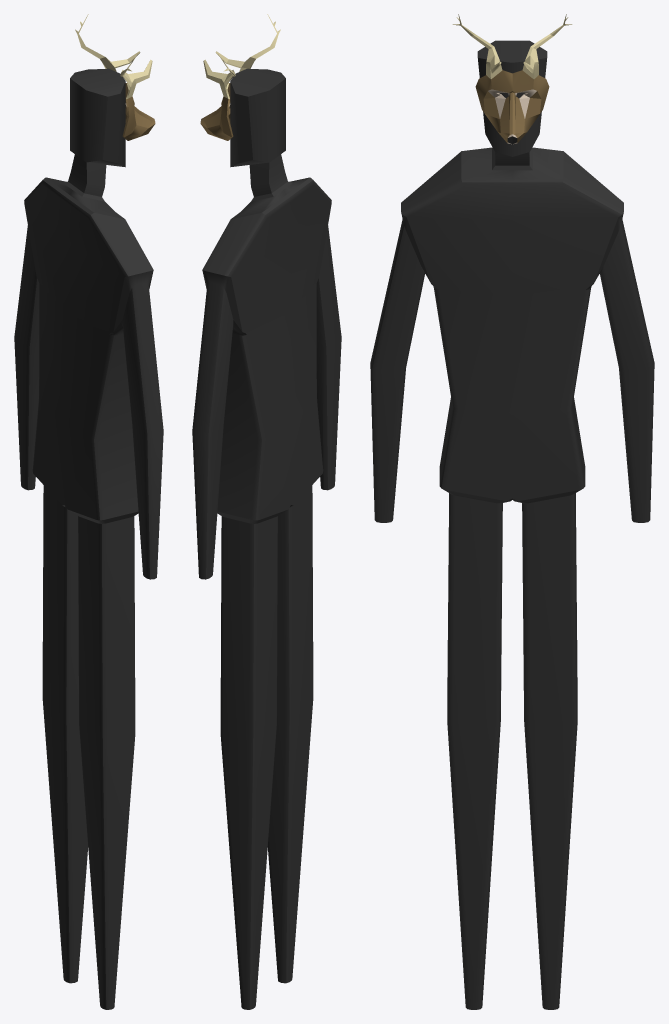
Rendered from Cerf.fbx.
The picture shows the model from 3 angles, left to right: view 1: azimuth 30°, elevation 25°; view 2: azimuth 150°, elevation 25°; view 3: azimuth 270°, elevation 25°; orthographic projection. The views are drawn at different scales.
Parts seen in each view (by area): view 1: Cerf1; view 2: Cerf1; view 3: Cerf1.
Boxes of the visible parts, <box> form: Cerf1: <box>14,14,163,1009</box>; Cerf1: <box>192,14,341,1009</box>; Cerf1: <box>370,14,654,1009</box>.
Bounding box in the file's own units: 1.13 × 11.44 × 2.93.
